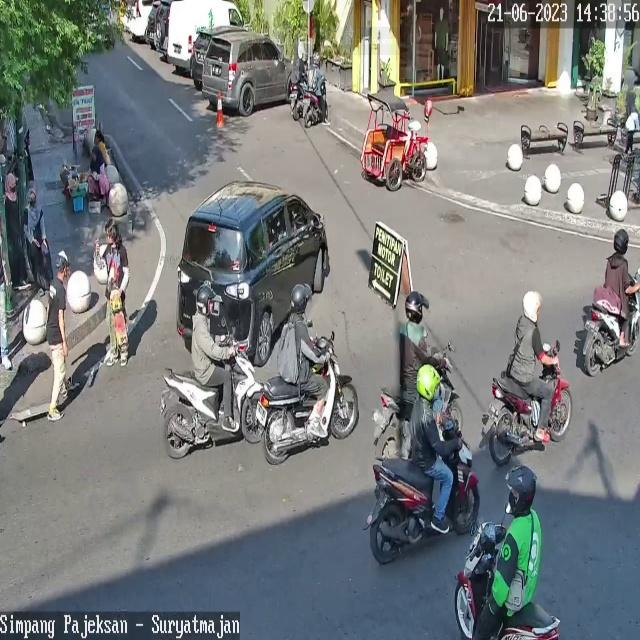bus: (364, 410, 480, 565), (256, 336, 358, 464), (157, 336, 263, 459), (453, 522, 561, 640), (482, 342, 574, 466), (374, 348, 464, 462), (583, 271, 640, 377), (303, 79, 327, 129), (290, 83, 304, 121)
motorcycle: (176, 181, 329, 366), (201, 30, 293, 116), (166, 0, 245, 67), (122, 0, 154, 36), (191, 28, 211, 82)
